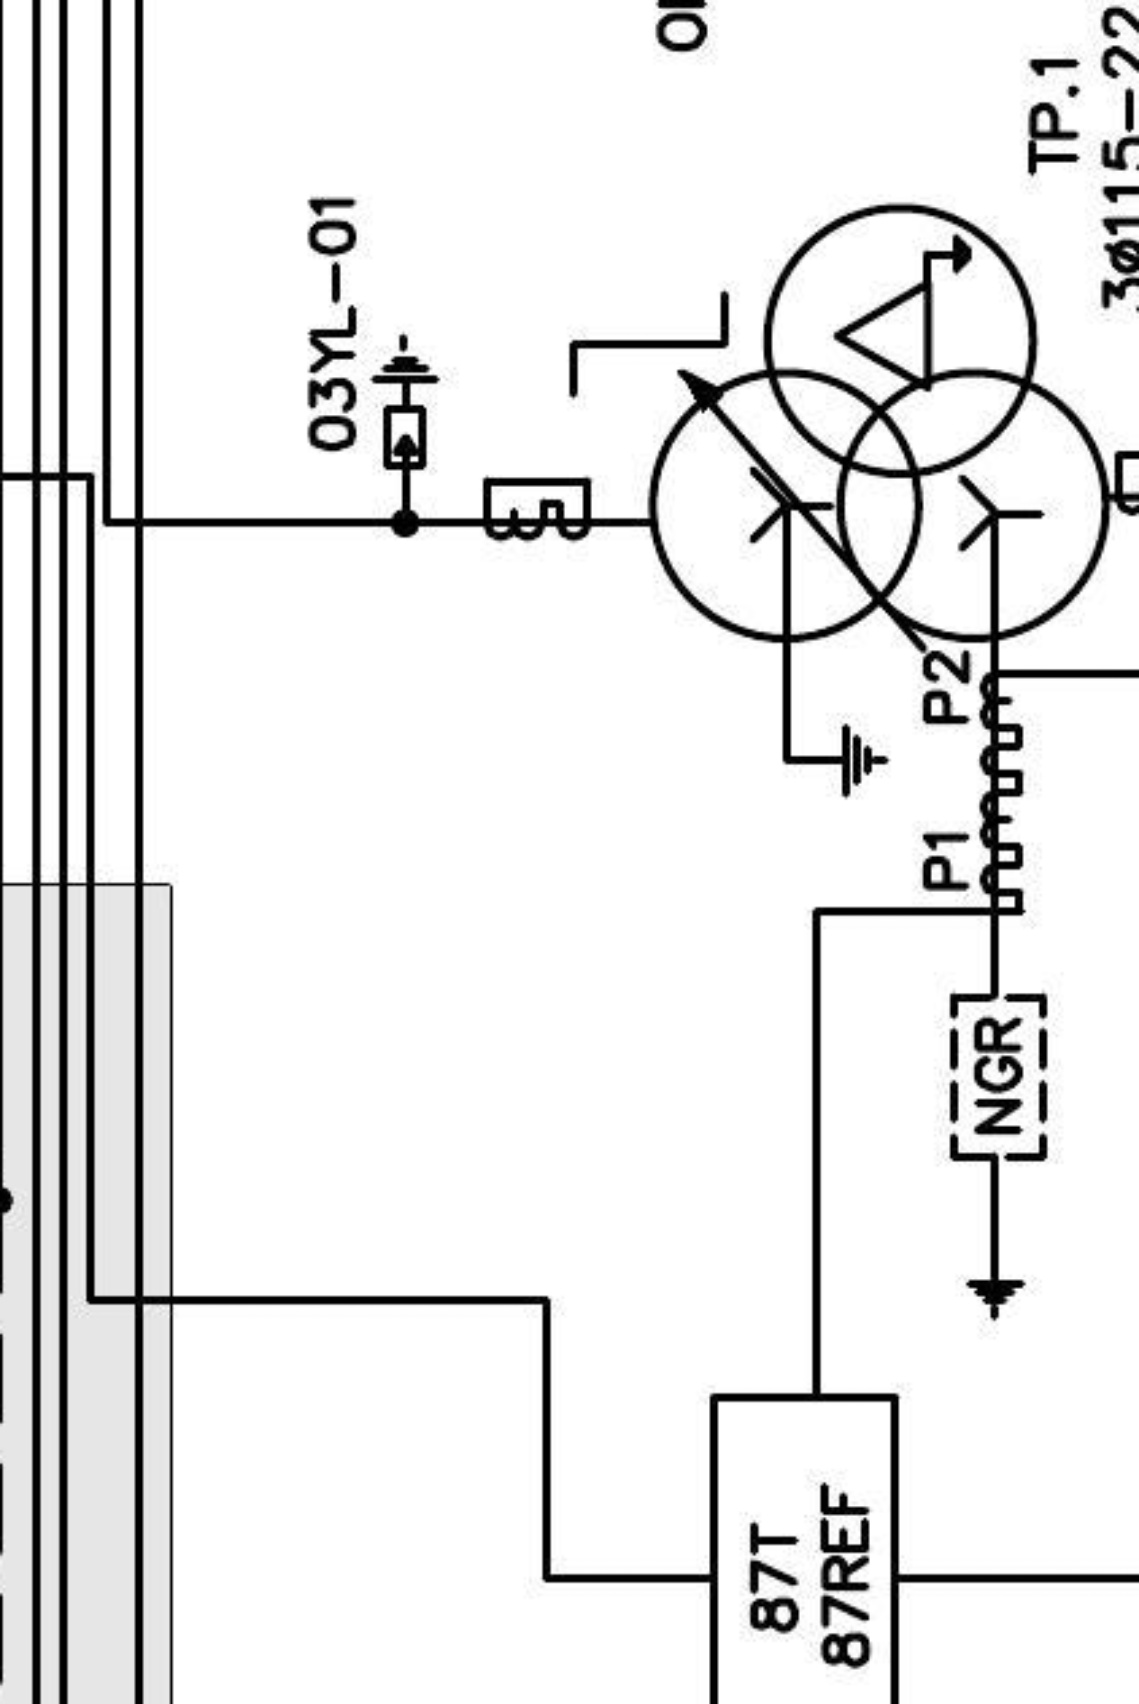11522_tx_ynyn0d1: (646, 199, 1114, 646)
115_la: (369, 333, 441, 473)
NGR_future: (948, 991, 1050, 1322)
